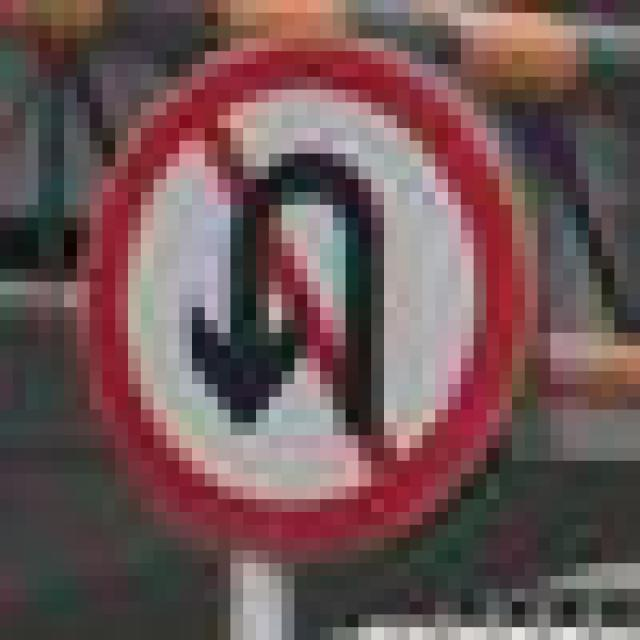u turn prohibited: (76, 40, 544, 567)
